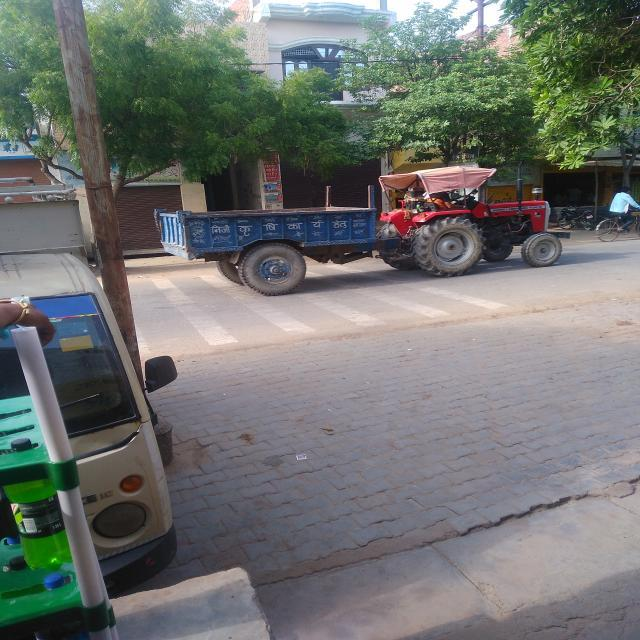Tractot: (119, 156, 577, 275)
